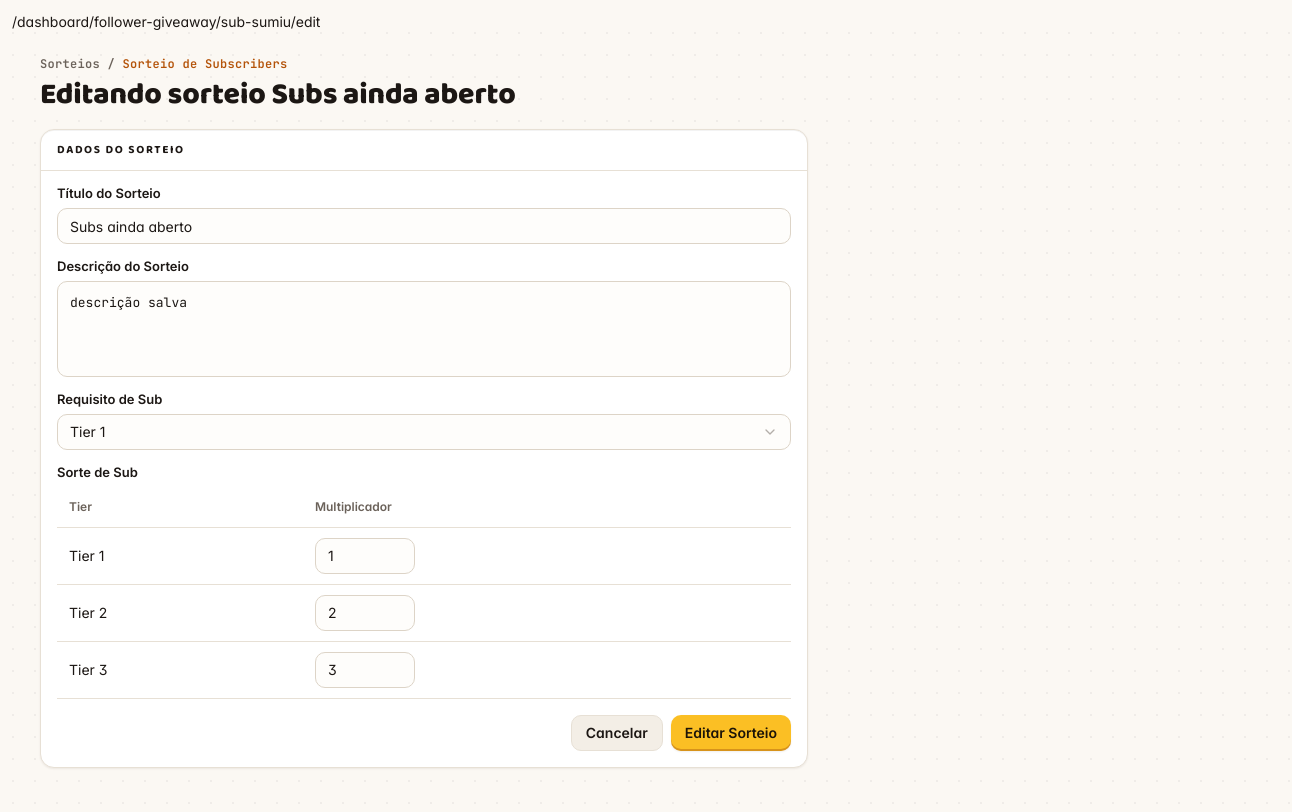
Scenario: update de sorteio já excluído › subscribers avisa e volta para a lista
Expected: the field showing "Subs ainda aberto" is shown, [57,208,791,244]
Click the button "Editar Sorteio": (731, 733) [671,715,791,751]
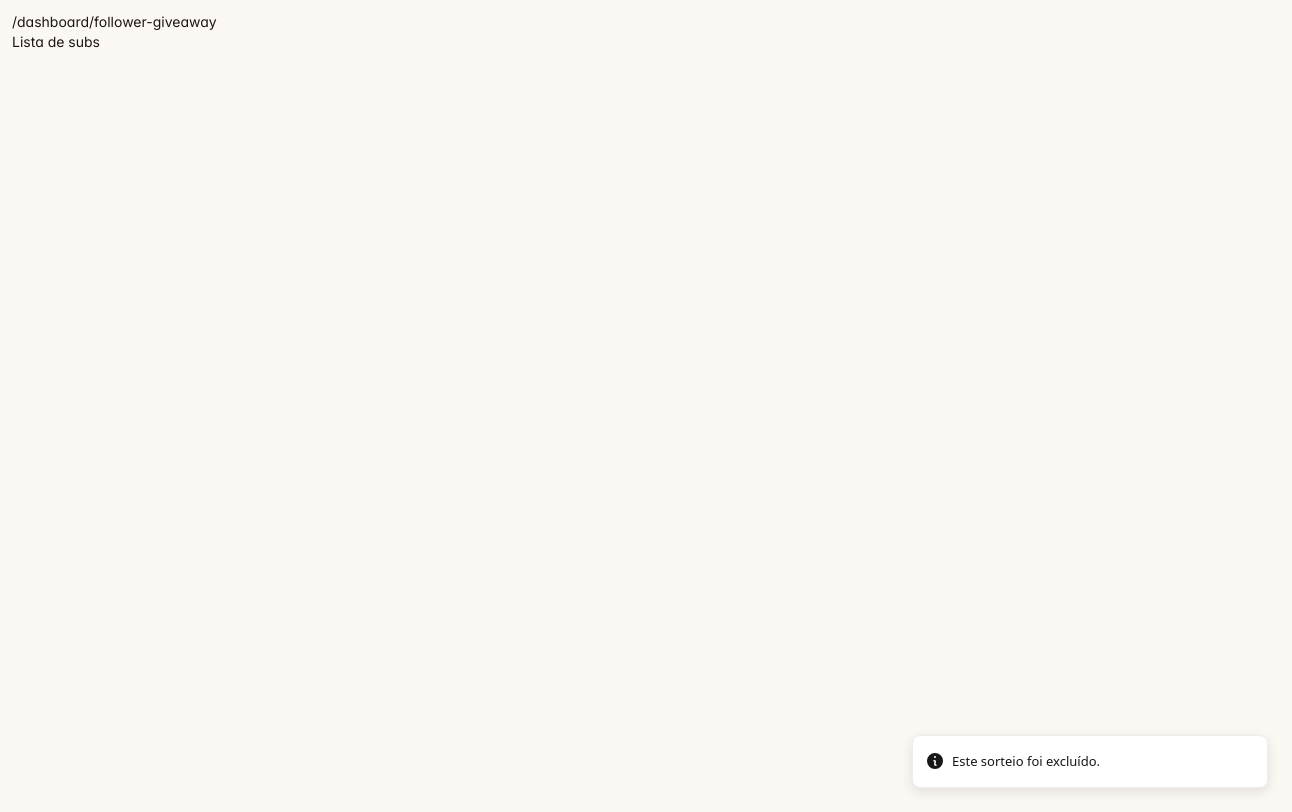
Expected: the text with test id "location" reads "/dashboard/follower-giveaway", [12,13,217,30]
Now the text "Este sorteio foi excluído." is shown, box [952,752,1100,771]
